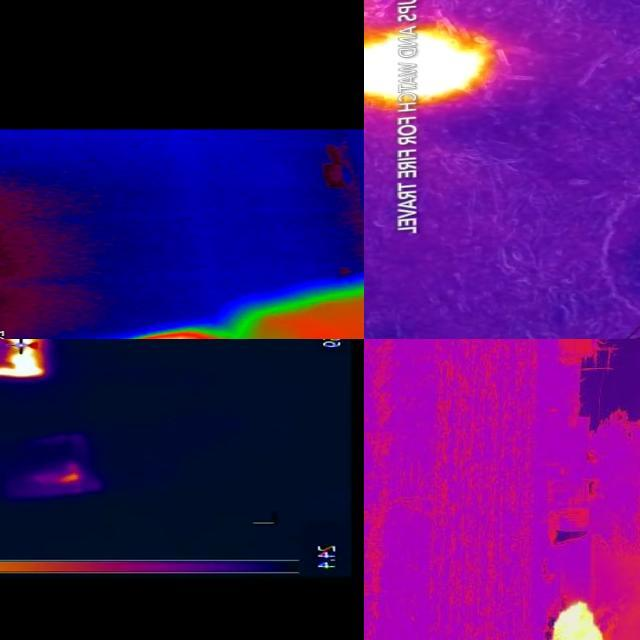fire: (365, 22, 497, 110), (548, 599, 605, 640), (1, 340, 47, 380), (86, 331, 230, 340)
